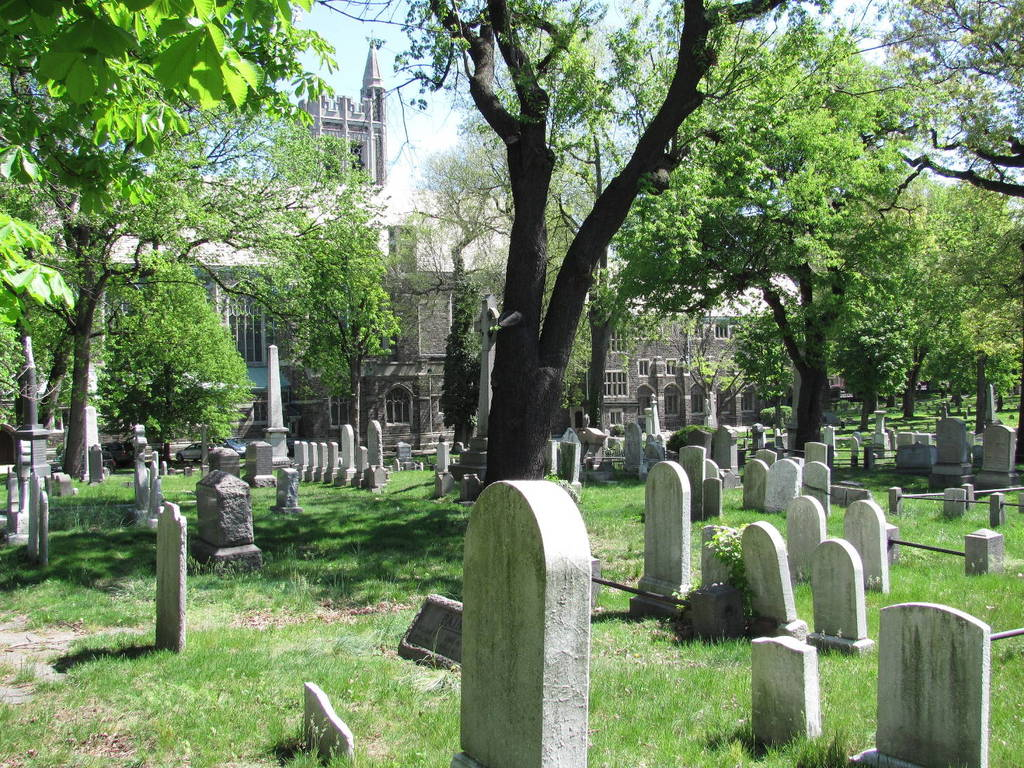Tree: (0, 0, 1023, 487)
